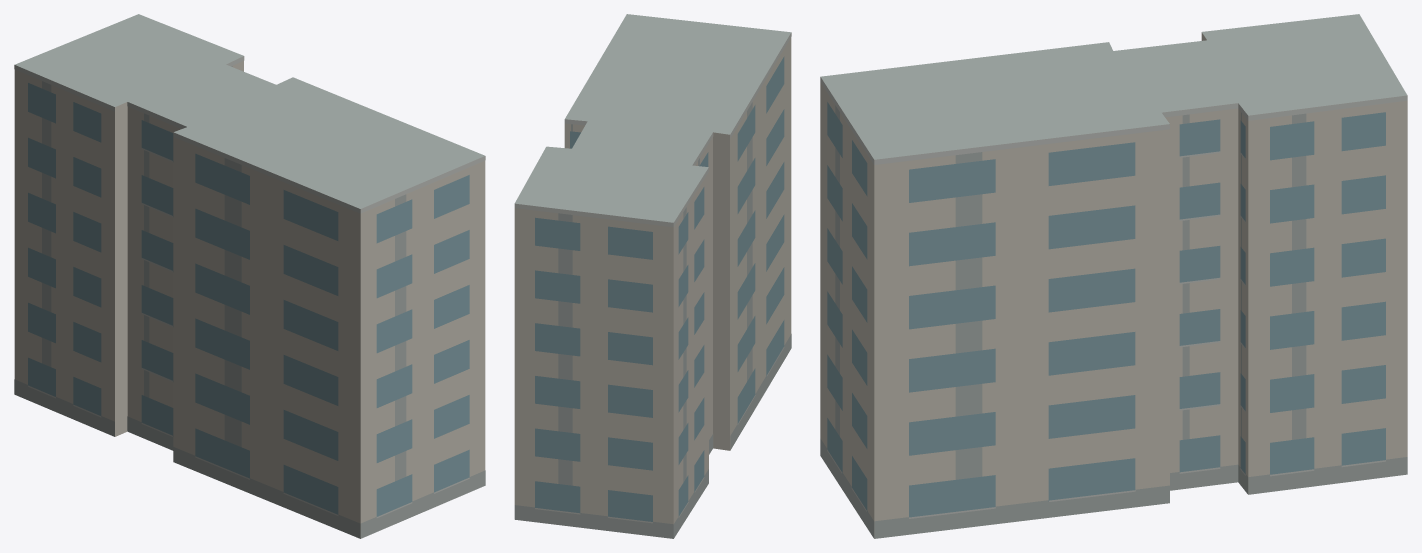
File: survey-upis-32574014.glb
The picture shows the model from 3 angles, left to right: view 1: azimuth 30°, elevation 25°; view 2: azimuth 150°, elevation 25°; view 3: azimuth 270°, elevation 25°; orthographic projection. The views are drawn at different scales.
Parts seen in each view (by area): view 1: survey-upis-32574014.tmp; view 2: survey-upis-32574014.tmp; view 3: survey-upis-32574014.tmp.
Boxes of the visible parts, box(x1,y1,x2,y2) form: survey-upis-32574014.tmp: box(14, 14, 485, 538); survey-upis-32574014.tmp: box(514, 14, 791, 538); survey-upis-32574014.tmp: box(820, 14, 1407, 538).
Size of the model in its own units: 14.44 by 17.5 by 24.57.
